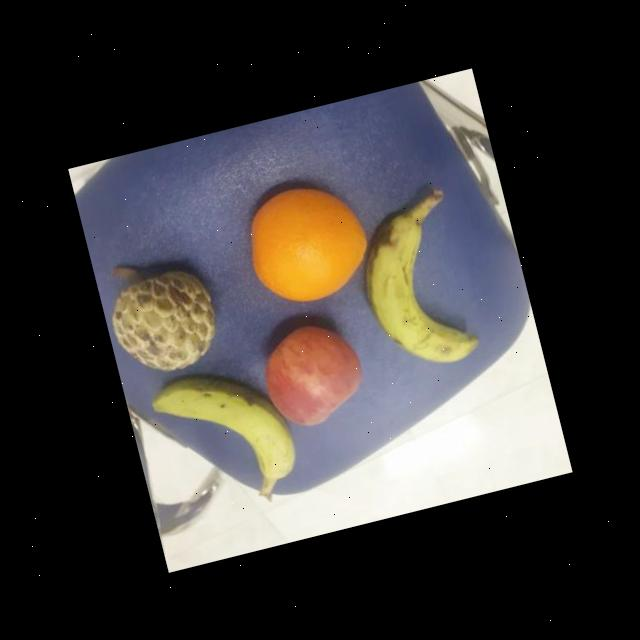Sakya fruit: (102, 259, 229, 384)
apple: (253, 313, 374, 434)
banana: (348, 202, 486, 382), (145, 354, 304, 506)
orange: (238, 172, 378, 314)
